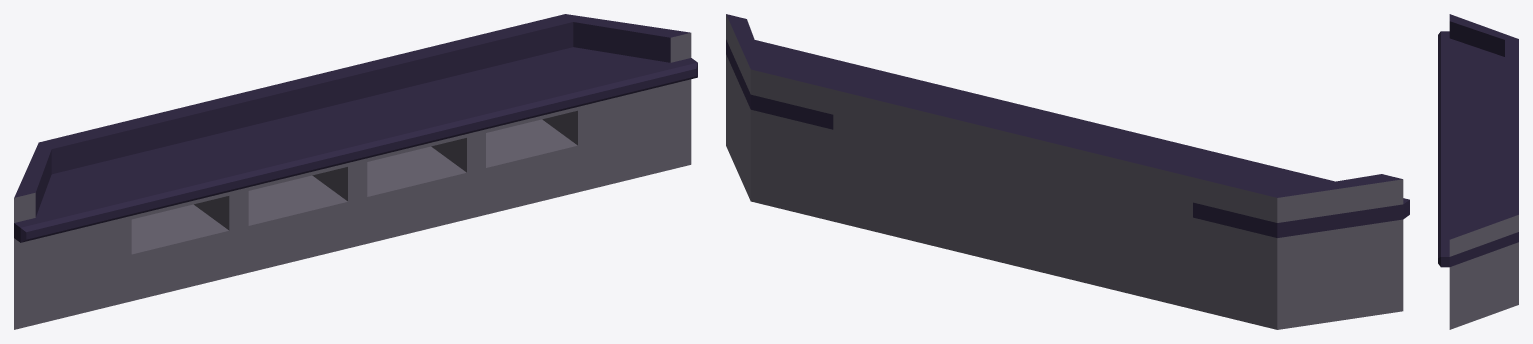
Rendered from middle_counter.fbx.
The picture shows the model from 3 angles, left to right: view 1: azimuth 30°, elevation 25°; view 2: azimuth 150°, elevation 25°; view 3: azimuth 270°, elevation 25°; orthographic projection. The views are drawn at different scales.
Parts seen in each view (by area): view 1: counter_mid; view 2: counter_mid; view 3: counter_mid.
Part boxes in pixels (box(x1,y1,x2,y2)): counter_mid: box(14, 14, 697, 329); counter_mid: box(726, 14, 1409, 329); counter_mid: box(1438, 14, 1518, 329).
Bounding box in the file's own units: 705 × 131 × 107.
